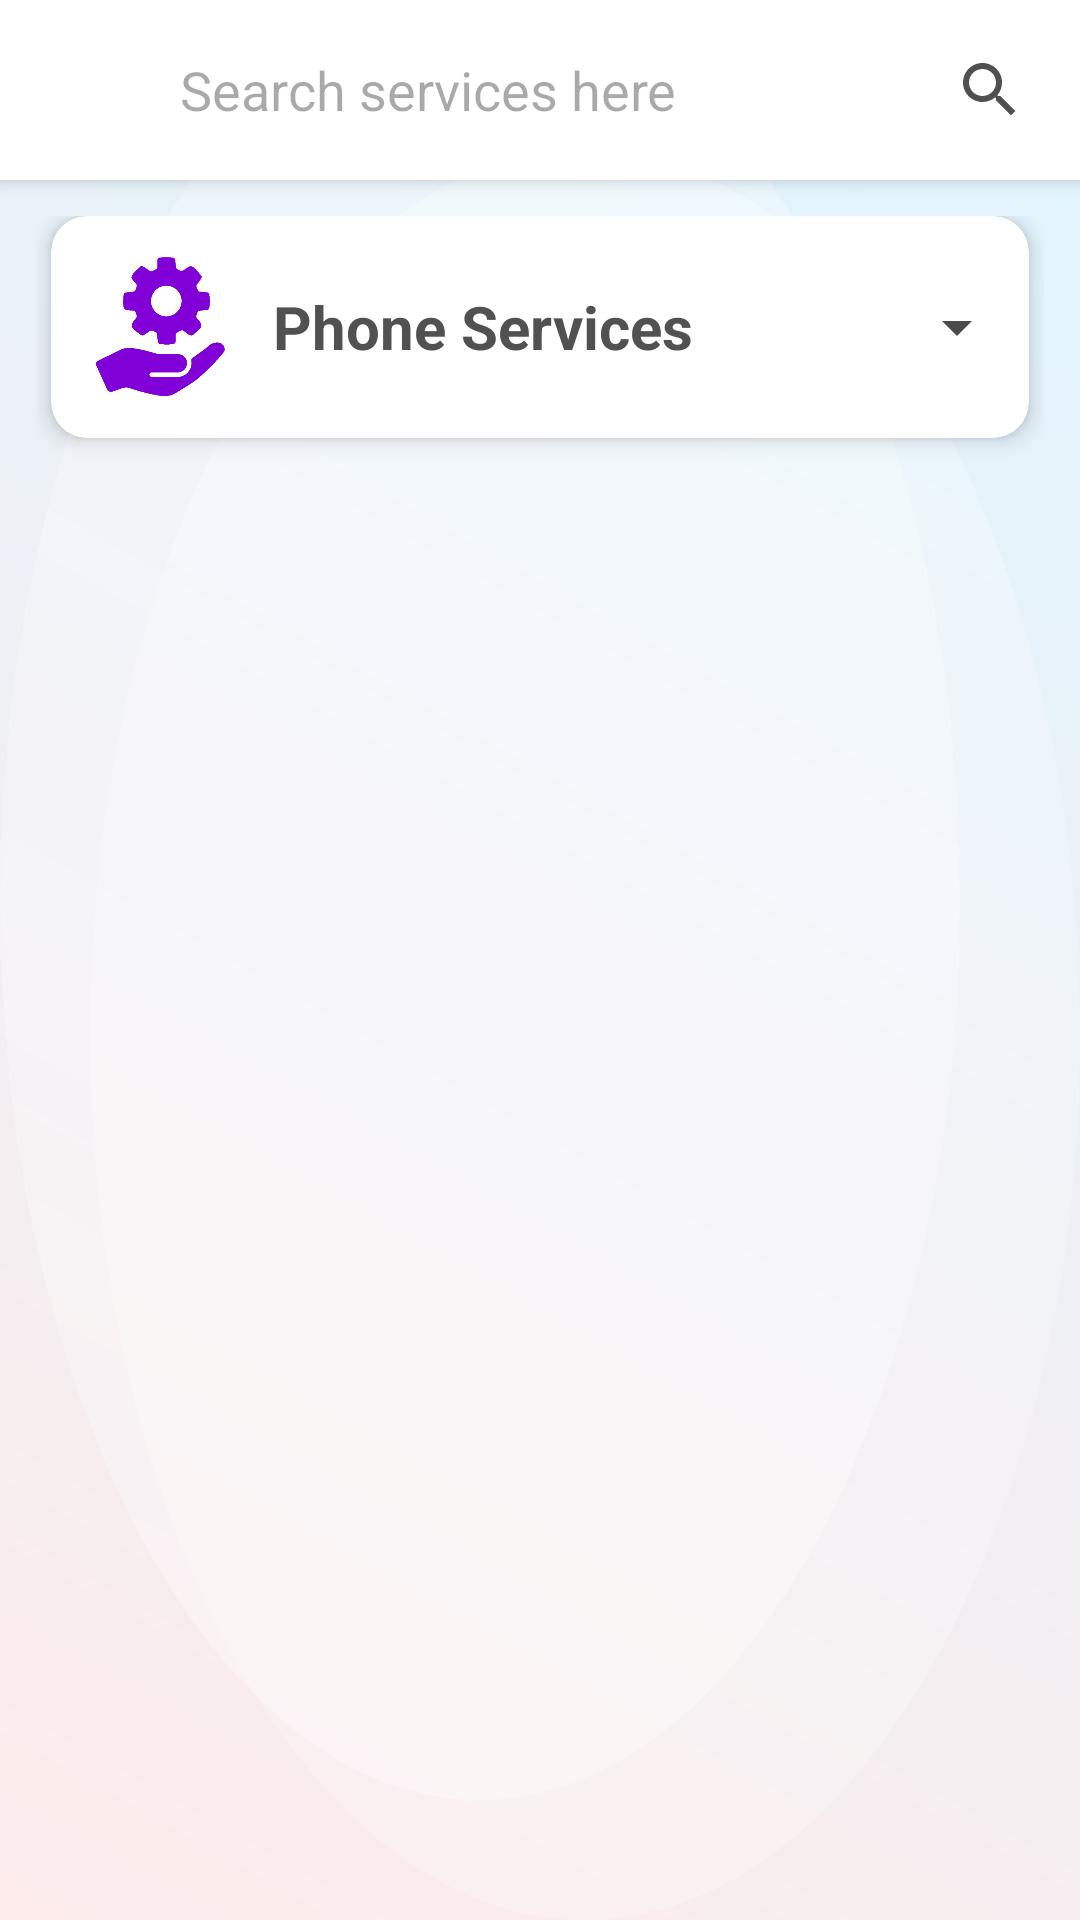

Named icons in this screenshot (1080×1920) and their centers, (x=x, y=y):
Toggle Dropdown: (x=957, y=328)
